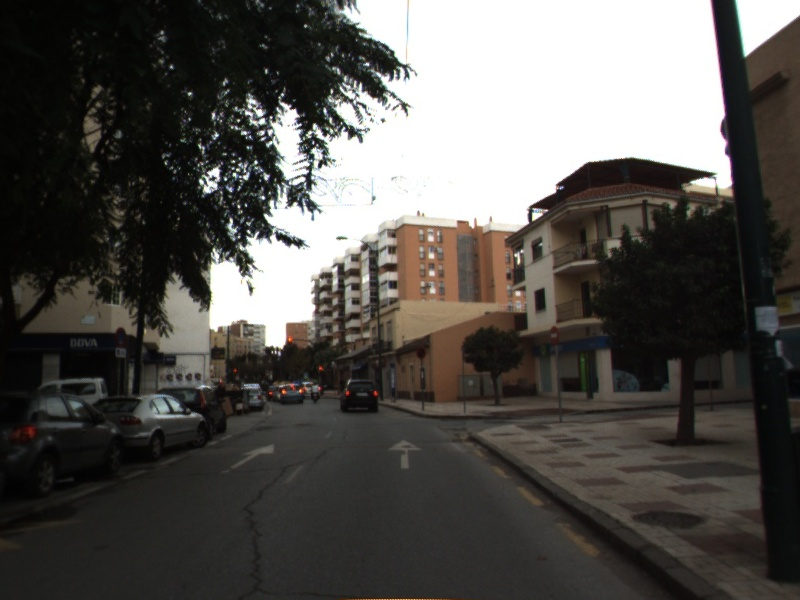STRAIGHT: (228, 442, 276, 471), (385, 437, 425, 471)
